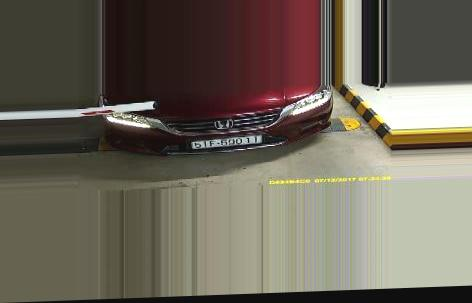License_Plate: (191, 133, 264, 149)
